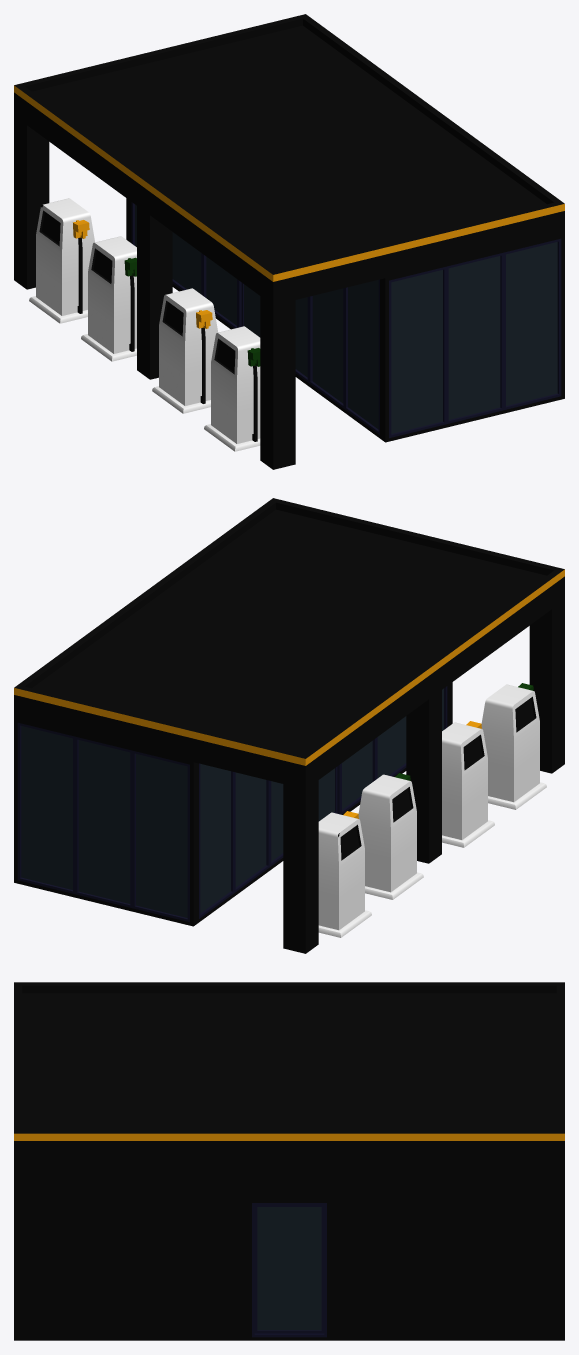
Rendered from Gas_station.fbx.
The picture shows the model from 3 angles, top to bottom: view 1: azimuth 30°, elevation 25°; view 2: azimuth 150°, elevation 25°; view 3: azimuth 270°, elevation 25°; orthographic projection. The views are drawn at different scales.
Visible parts, largest first — view 1: Box005; view 2: Box005; view 3: Box005.
Boxes of the visible parts, box(x1,y1,x2,y2) form: Box005: box(14, 14, 564, 469); Box005: box(14, 498, 564, 953); Box005: box(14, 982, 564, 1340).
Size of the model in its own units: 52.95 by 32.68 by 78.74.
